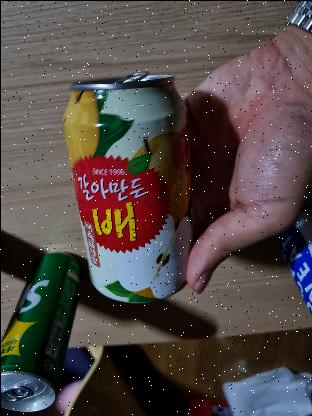Can: (62, 73, 191, 302)
